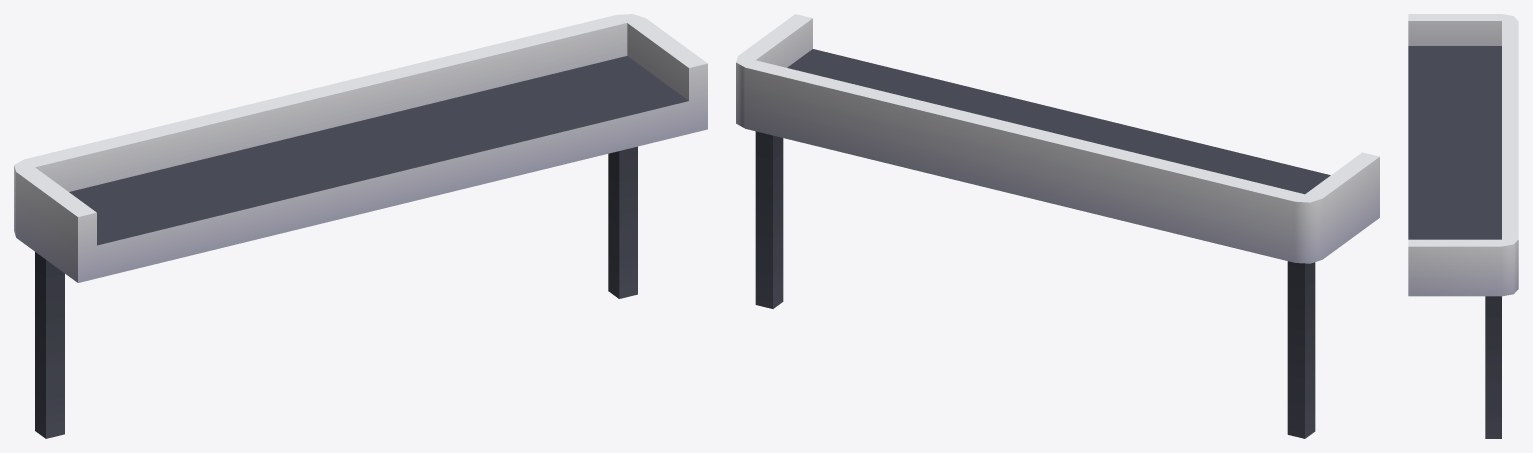
File: detail-overhang-wide.glb
The picture shows the model from 3 angles, left to right: view 1: azimuth 30°, elevation 25°; view 2: azimuth 150°, elevation 25°; view 3: azimuth 270°, elevation 25°; orthographic projection. The views are drawn at different scales.
Parts seen in each view (by area): view 1: detail-overhang-wide; view 2: detail-overhang-wide; view 3: detail-overhang-wide.
Part boxes in pixels (x1,y1,x2,y2): detail-overhang-wide: [14, 14, 707, 438]; detail-overhang-wide: [736, 14, 1379, 438]; detail-overhang-wide: [1408, 14, 1518, 438].
Size of the model in its own units: 1 by 0.3999 by 0.2.
Materials: 1 (1 with a texture image).
